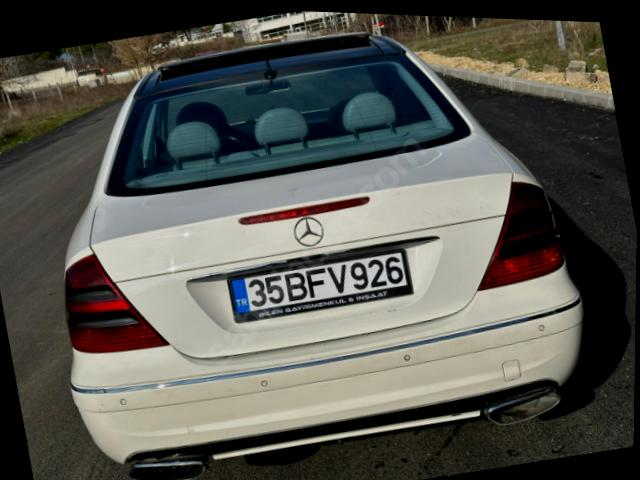plaka: (227, 248, 413, 322)
